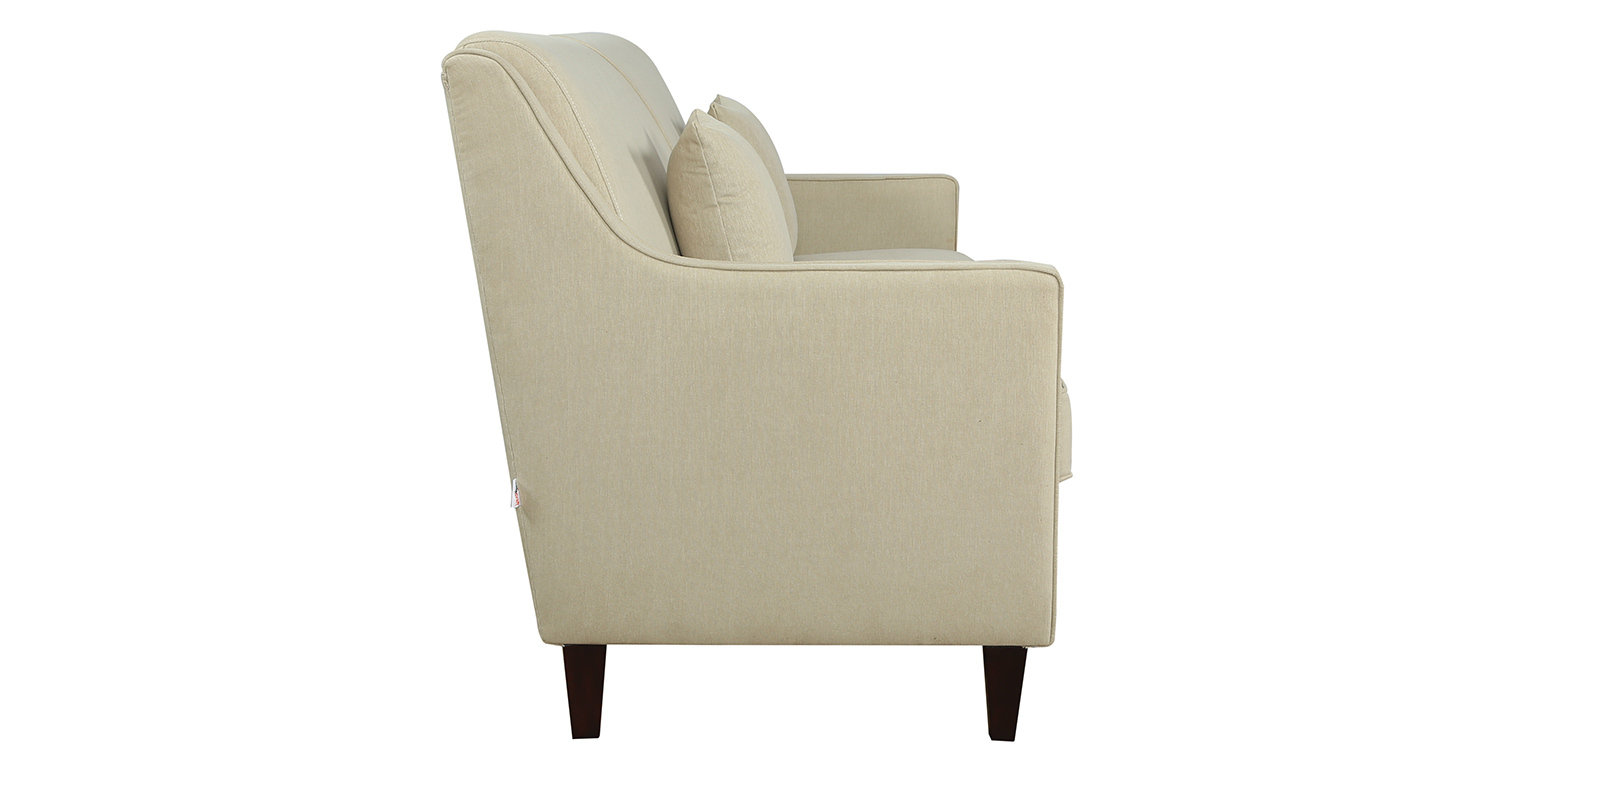Oscar Three Seater Sofa in Beige Colour by CasaCraft: (439, 26, 1073, 742)
